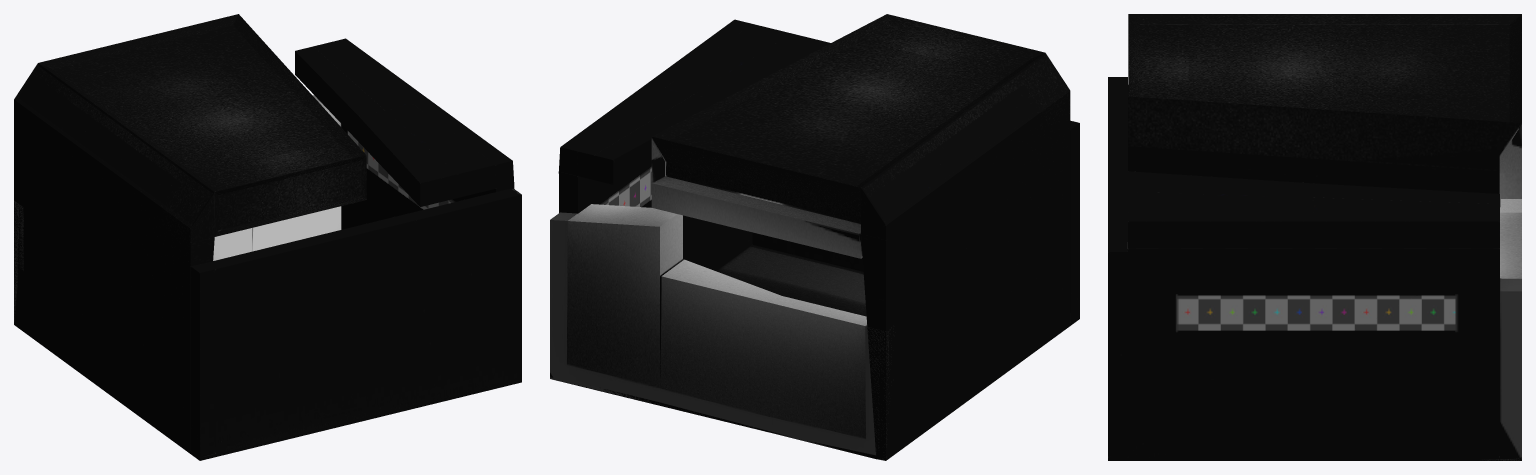
File: Room.glb
3 renders of one model, left to right at view 1: azimuth 30°, elevation 25°; view 2: azimuth 150°, elevation 25°; view 3: azimuth 270°, elevation 25°, orthographic. The views are drawn at different scales.
Visible parts, largest first — view 1: Cube; view 2: Cube; view 3: Cube.
Part boxes in pixels (x1,y1,x2,y2): Cube: [14, 14, 521, 460]; Cube: [550, 14, 1079, 460]; Cube: [1108, 14, 1521, 460].
Size of the model in its own units: 20.08 by 15.24 by 20.
1 material, 1 textured.
